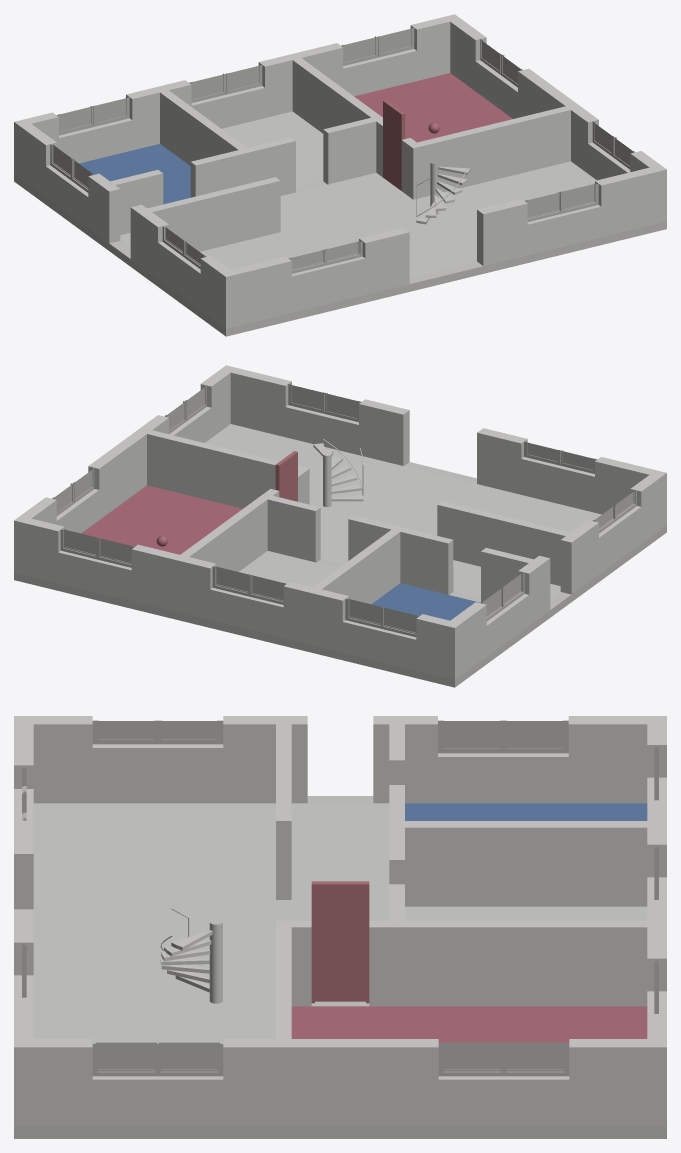
File: ifc-cutaway-door-17468-closed.glb
3 renders of one model, top to bottom at view 1: azimuth 30°, elevation 25°; view 2: azimuth 150°, elevation 25°; view 3: azimuth 270°, elevation 25°, orthographic. The views are drawn at different scales.
Visible parts, largest first — view 1: IfcWallStandardCase/IFC_27421, IfcWallStandardCase/IFC_32407, IfcWallStandardCase/IFC_21966, RoomFootprints/33774_Wohnen, IfcWallStandardCase/IFC_18698, IfcWallStandardCase/IFC_15042, IfcWallStandardCase/IFC_31470, IfcSlab/IFC_34509, IfcWallStandardCase/IFC_20598, RoomFootprints/20909_Schlafzimmer, IfcWallStandardCase/IFC_17040, RoomFootprints/34191_Flur (+15 smaller); view 2: IfcWallStandardCase/IFC_32407, IfcWallStandardCase/IFC_27421, IfcWallStandardCase/IFC_21966, RoomFootprints/33774_Wohnen, IfcWallStandardCase/IFC_18698, IfcWallStandardCase/IFC_31470, IfcWallStandardCase/IFC_15042, IfcSlab/IFC_34509, RoomFootprints/20909_Schlafzimmer, IfcWallStandardCase/IFC_20598, IfcWallStandardCase/IFC_17040, IfcWallStandardCase/IFC_18465 (+15 smaller); view 3: IfcWallStandardCase/IFC_31470, IfcWallStandardCase/IFC_21966, RoomFootprints/34763_KÃ¼che, IfcWallStandardCase/IFC_17040, RoomFootprints/33774_Wohnen, IfcWallStandardCase/IFC_18465, RoomFootprints/20909_Schlafzimmer, RoomFootprints/34191_Flur, IfcSlab/IFC_34509, ClosedDoor/IFC_17468, IfcWallStandardCase/IFC_27421, IfcWallStandardCase/IFC_32407 (+10 smaller).
Part boxes in pixels (box(x1,y1,x2,y2)): IfcWallStandardCase/IFC_27421: box(226, 167, 666, 328); IfcWallStandardCase/IFC_32407: box(14, 14, 454, 163); IfcWallStandardCase/IFC_21966: box(14, 122, 230, 328); RoomFootprints/33774_Wohnen: box(314, 161, 596, 277); IfcWallStandardCase/IFC_18698: box(110, 118, 376, 234); IfcWallStandardCase/IFC_15042: box(413, 106, 570, 199); IfcWallStandardCase/IFC_31470: box(450, 14, 666, 180); IfcSlab/IFC_34509: box(14, 174, 666, 336); IfcWallStandardCase/IFC_20598: box(147, 177, 280, 251); RoomFootprints/20909_Schlafzimmer: box(354, 73, 512, 142); IfcWallStandardCase/IFC_17040: box(292, 58, 416, 199); RoomFootprints/34191_Flur: box(120, 172, 412, 247); IfcWallStandardCase/IFC_32407: box(14, 518, 454, 679); IfcWallStandardCase/IFC_27421: box(226, 365, 666, 514); IfcWallStandardCase/IFC_21966: box(450, 473, 666, 679); RoomFootprints/33774_Wohnen: box(205, 424, 487, 532); IfcWallStandardCase/IFC_18698: box(267, 496, 533, 602); IfcWallStandardCase/IFC_31470: box(14, 365, 230, 533); IfcWallStandardCase/IFC_15042: box(147, 430, 308, 508); IfcSlab/IFC_34509: box(14, 462, 666, 687); RoomFootprints/20909_Schlafzimmer: box(81, 485, 242, 554); IfcWallStandardCase/IFC_20598: box(437, 501, 570, 585); IfcWallStandardCase/IFC_17040: box(180, 468, 309, 571); IfcWallStandardCase/IFC_18465: box(313, 529, 400, 604); IfcWallStandardCase/IFC_31470: box(14, 1039, 666, 1126); IfcWallStandardCase/IFC_21966: box(14, 716, 666, 803); RoomFootprints/34763_KÃ¼che: box(33, 803, 275, 924); IfcWallStandardCase/IFC_17040: box(277, 920, 647, 1006); RoomFootprints/33774_Wohnen: box(33, 924, 275, 1043); IfcWallStandardCase/IFC_18465: box(405, 821, 647, 906); RoomFootprints/20909_Schlafzimmer: box(291, 1006, 647, 1043); RoomFootprints/34191_Flur: box(276, 803, 389, 920); IfcSlab/IFC_34509: box(14, 796, 666, 1138); ClosedDoor/IFC_17468: box(311, 881, 369, 1003); IfcWallStandardCase/IFC_27421: box(14, 716, 33, 1046); IfcWallStandardCase/IFC_32407: box(647, 716, 666, 1046).
Size of the model in its own units: 12 by 2.21 by 10.
